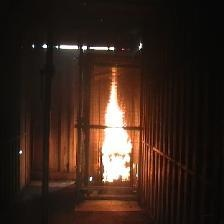fire: (96, 74, 135, 186)
